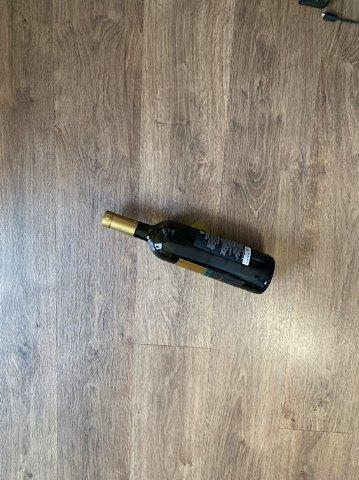botolkaca: (99, 211, 277, 296)
